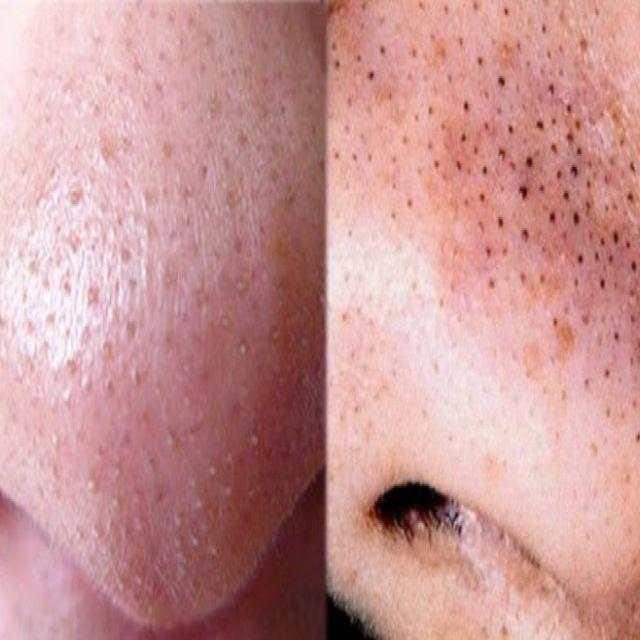Acne: (328, 2, 640, 625), (4, 17, 324, 618)
